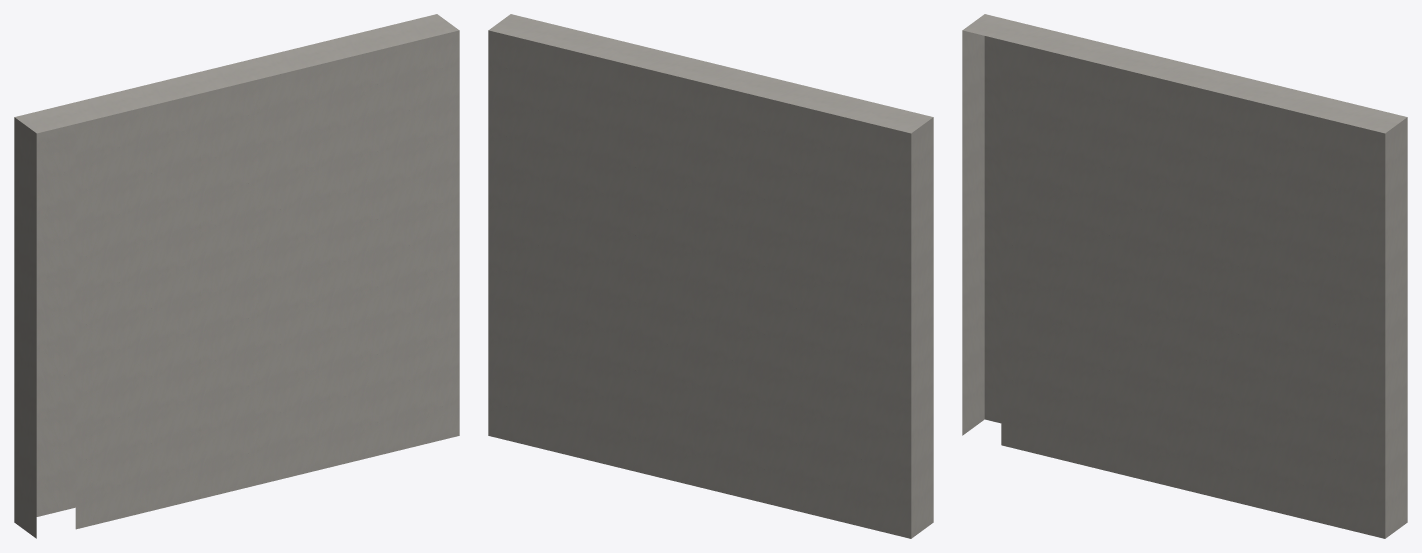
The model's file is fstWallB.obj.
3 renders of one model, left to right at view 1: azimuth 30°, elevation 25°; view 2: azimuth 150°, elevation 25°; view 3: azimuth 330°, elevation 25°, orthographic.
Parts seen in each view (by area): view 1: Box011; view 2: Box011; view 3: Box011.
Part boxes in pixels (left/top/right/bottom): Box011: left=14, top=14, right=459, bottom=538; Box011: left=488, top=14, right=933, bottom=538; Box011: left=962, top=14, right=1407, bottom=538.
Size of the model in its own units: 129 by 118 by 11.81.
